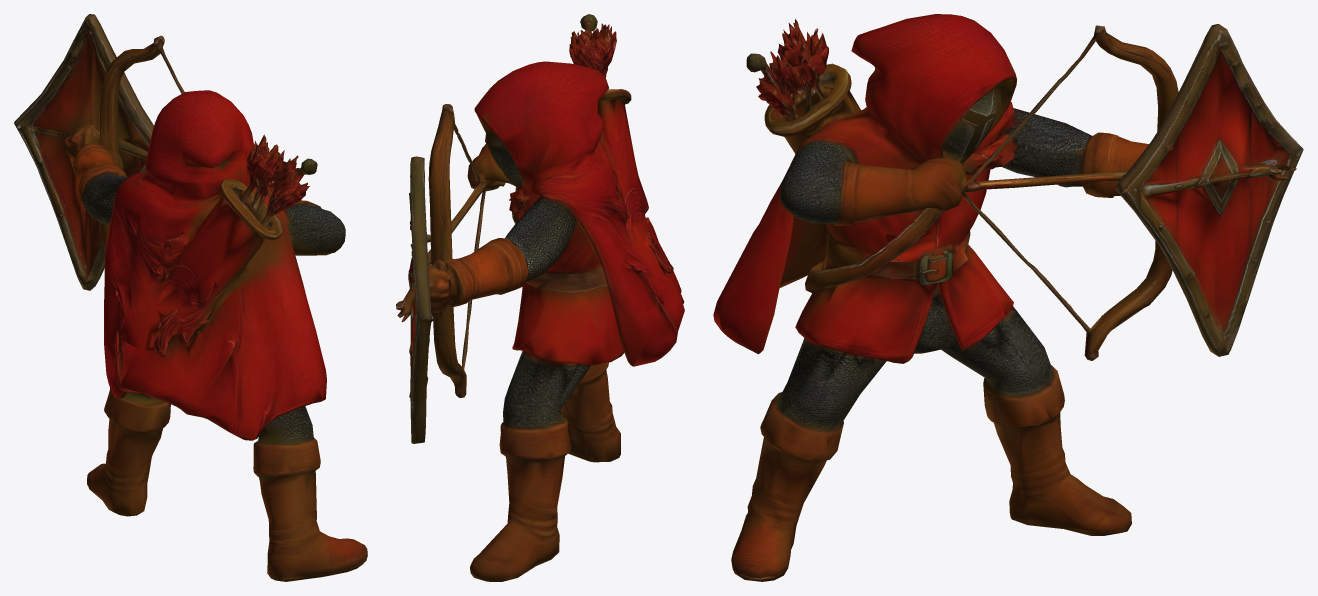
The picture shows the model from 3 angles, left to right: view 1: azimuth 30°, elevation 25°; view 2: azimuth 150°, elevation 25°; view 3: azimuth 270°, elevation 25°; orthographic projection. The views are drawn at different scales.
Parts seen in each view (by area): view 1: tripo_node_dbc6966e-4434-42f9-9165-f9410974a63a; view 2: tripo_node_dbc6966e-4434-42f9-9165-f9410974a63a; view 3: tripo_node_dbc6966e-4434-42f9-9165-f9410974a63a.
Boxes of the visible parts, <box> form: tripo_node_dbc6966e-4434-42f9-9165-f9410974a63a: <box>14,14,367,581</box>; tripo_node_dbc6966e-4434-42f9-9165-f9410974a63a: <box>396,14,684,581</box>; tripo_node_dbc6966e-4434-42f9-9165-f9410974a63a: <box>713,14,1303,581</box>.
Bounding box in the file's own units: 0.4612 × 0.9924 × 0.9995.
1 material, 1 textured.
